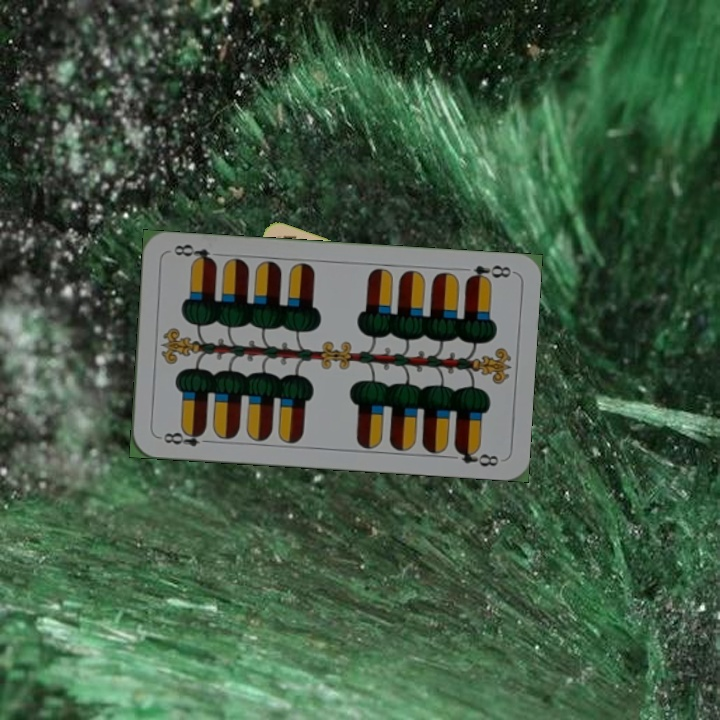E8: (155, 425, 214, 449), (462, 260, 513, 285)
